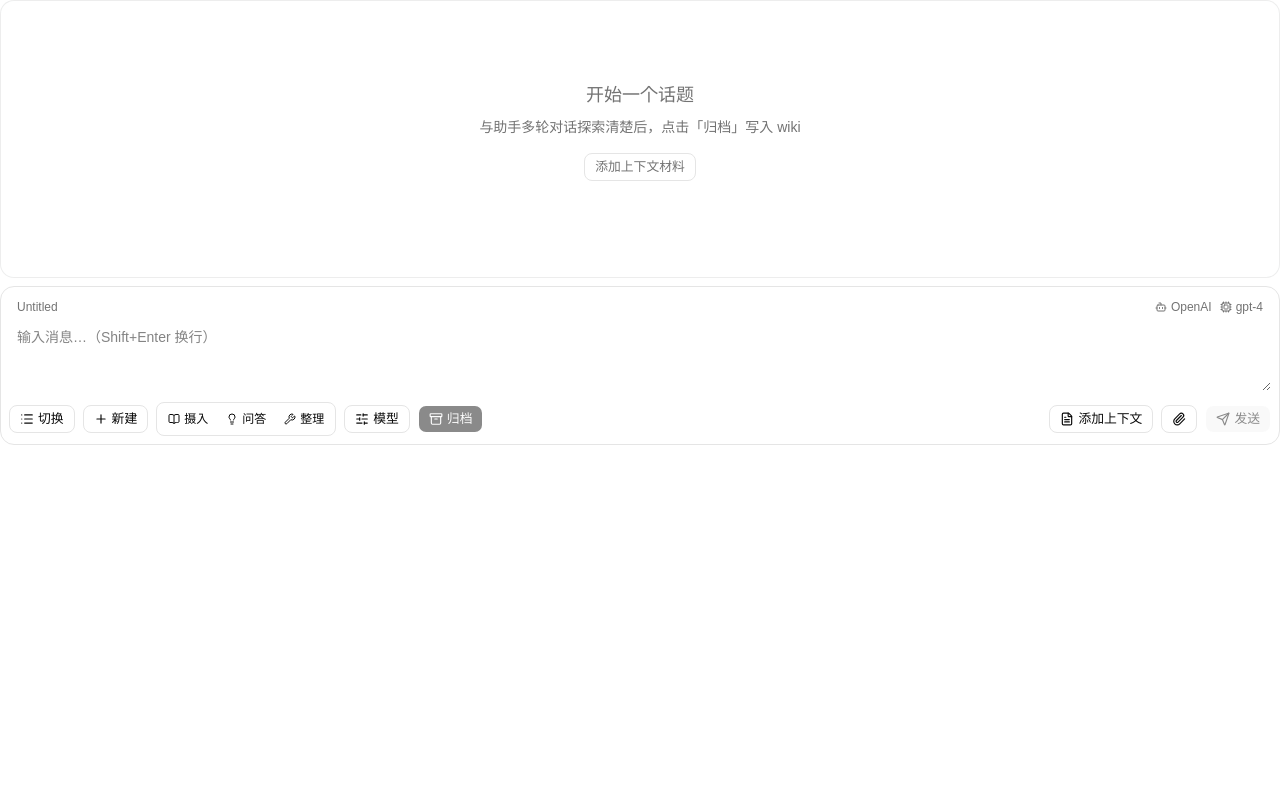
it: IngestChat › opens context dialog from empty state CTA
Check: the text "开始一个话题" is shown, box [586, 85, 694, 105]
Click the button with test id "context-input-empty-cta" at (640, 167), box [584, 153, 696, 181]
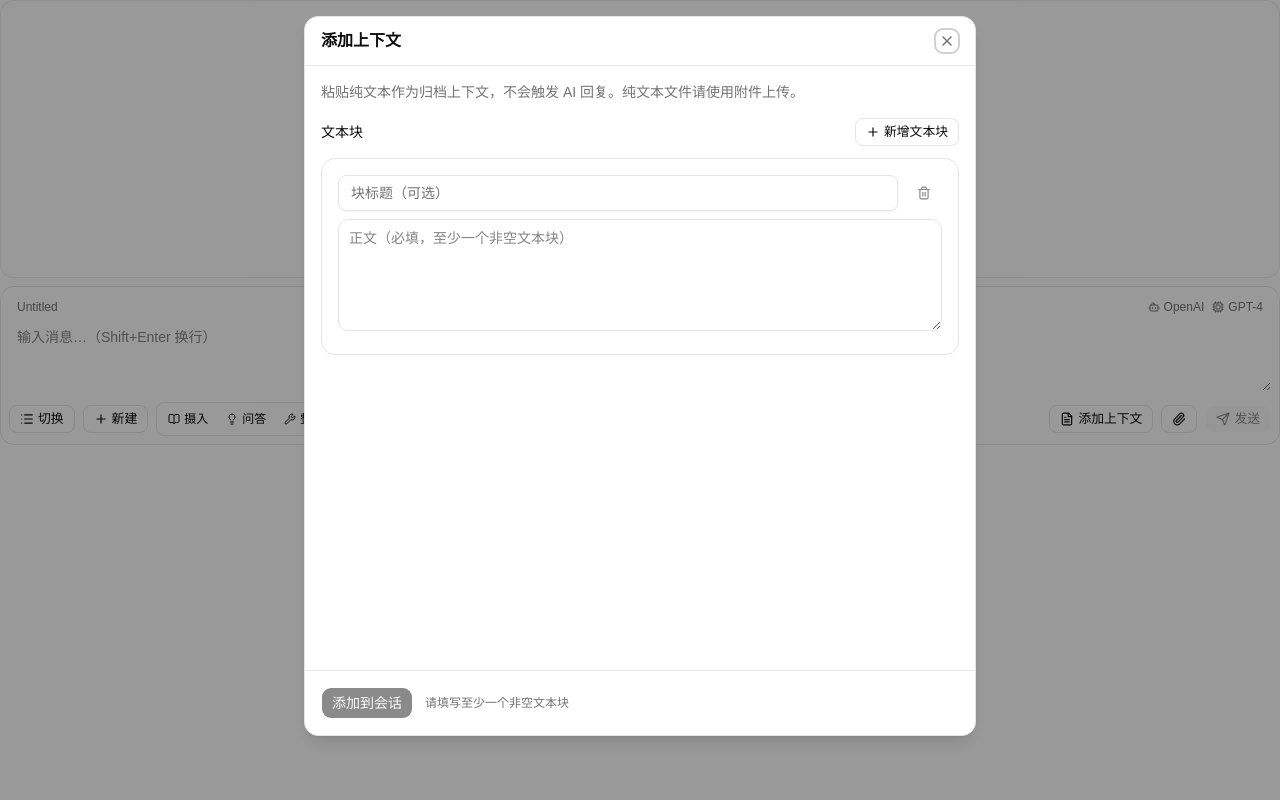
Check: the dialog with test id "context-input-dialog" is shown, box [304, 16, 976, 736]
